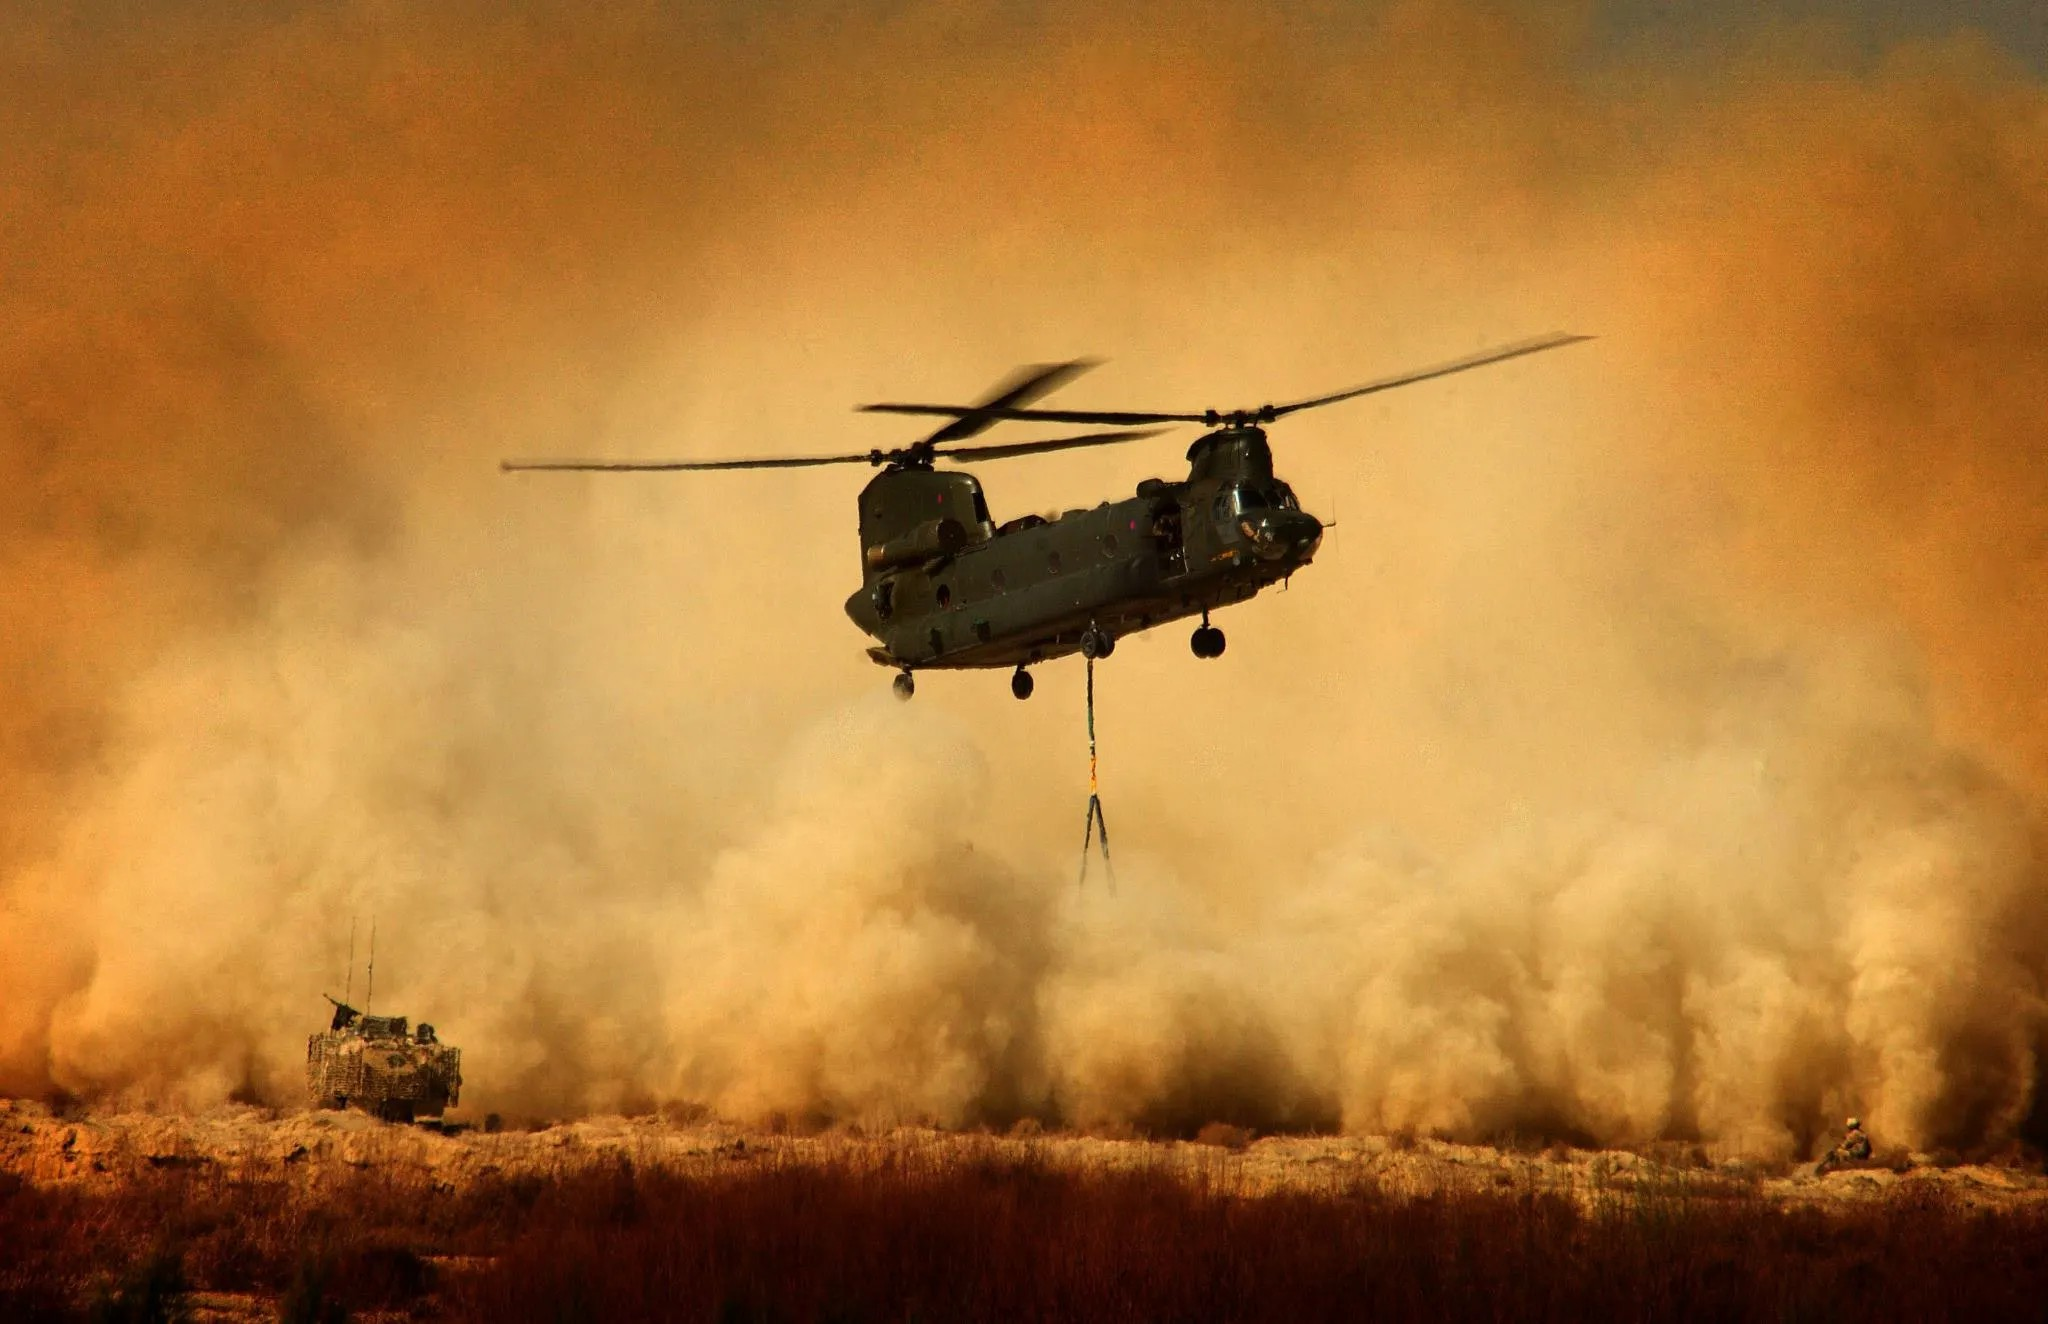chinook: (784, 399, 1393, 708)
